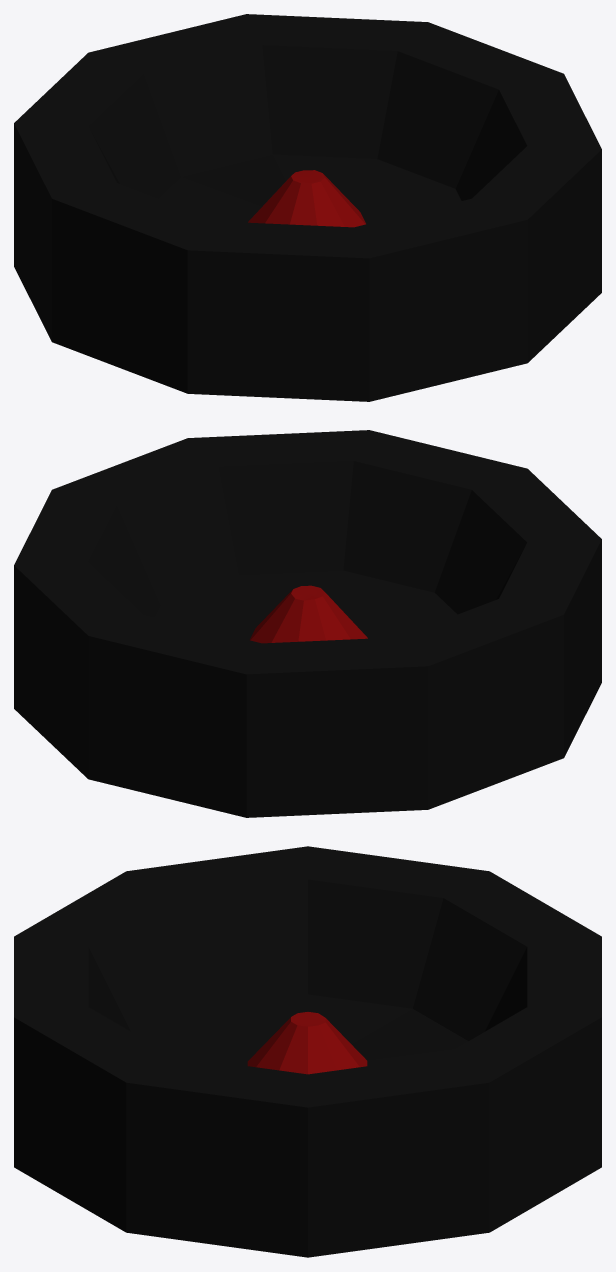
File: laserreciever.obj
3 renders of one model, top to bottom at view 1: azimuth 30°, elevation 25°; view 2: azimuth 150°, elevation 25°; view 3: azimuth 270°, elevation 25°, orthographic. The views are drawn at different scales.
Parts seen in each view (by area): view 1: pCylinder1; view 2: pCylinder1; view 3: pCylinder1.
Part boxes in pixels (left/top/right/bottom): pCylinder1: left=14, top=14, right=601, bottom=401; pCylinder1: left=14, top=430, right=601, bottom=817; pCylinder1: left=14, top=846, right=601, bottom=1257.
Size of the model in its own units: 2 by 0.5356 by 1.9.
